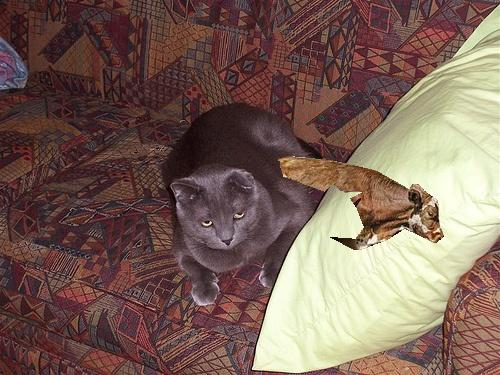tampered: (279, 157, 444, 250)
